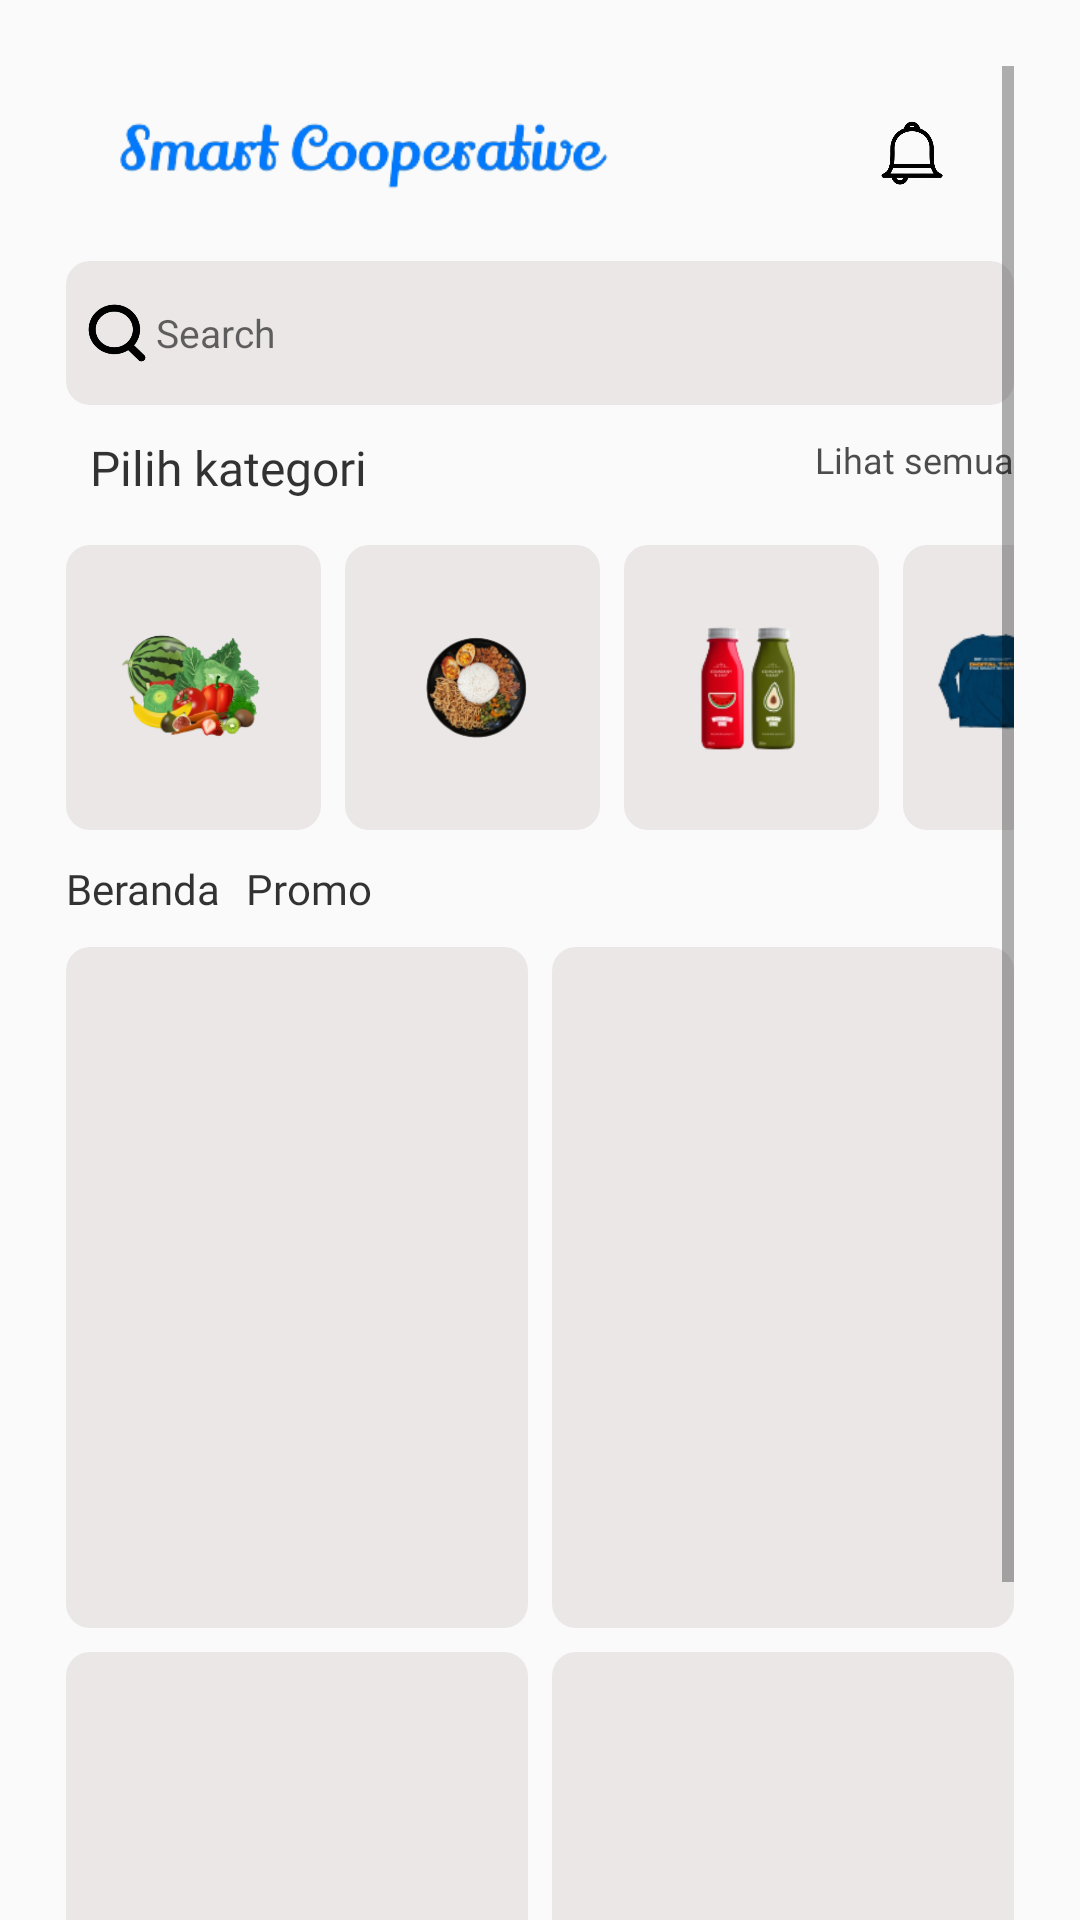

Named icons in this screenshot (1080px x 1920px) and their bounding boxes, (x1,y1,x2,y2):
makanan: (426,637,527,738)
minuman: (700,627,795,750)
sayur: (122,634,260,737)
